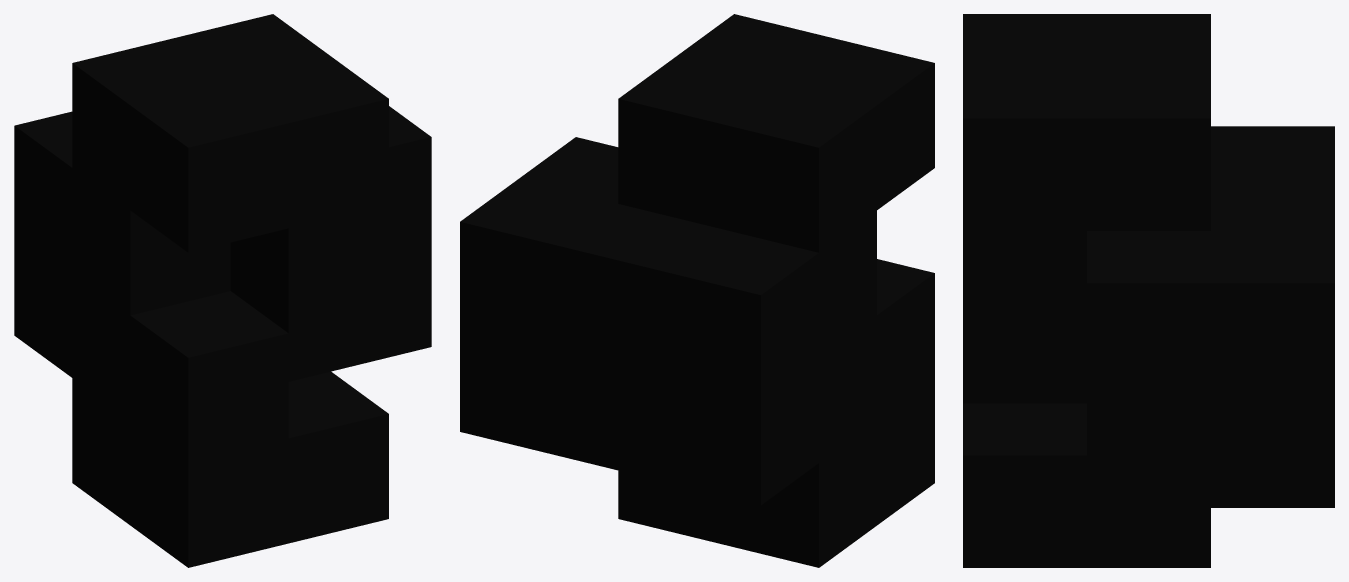
Rendered from Slider_Full_Right.002.fbx.
3 views of the same model, side by side, from view 1: azimuth 30°, elevation 25°; view 2: azimuth 150°, elevation 25°; view 3: azimuth 270°, elevation 25° (orthographic). The views are drawn at different scales.
Visible parts, largest first — view 1: Slider_Full_Right.002; view 2: Slider_Full_Right.002; view 3: Slider_Full_Right.002.
Boxes of the visible parts, x1=… form: Slider_Full_Right.002: x1=14, y1=14, x2=431, y2=567; Slider_Full_Right.002: x1=460, y1=14, x2=934, y2=567; Slider_Full_Right.002: x1=963, y1=14, x2=1334, y2=567.
Bounding box in the file's own units: 0.3 × 0.4 × 0.3.
